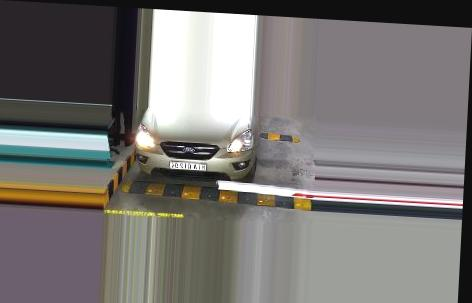License_Plate: (167, 158, 207, 172)
